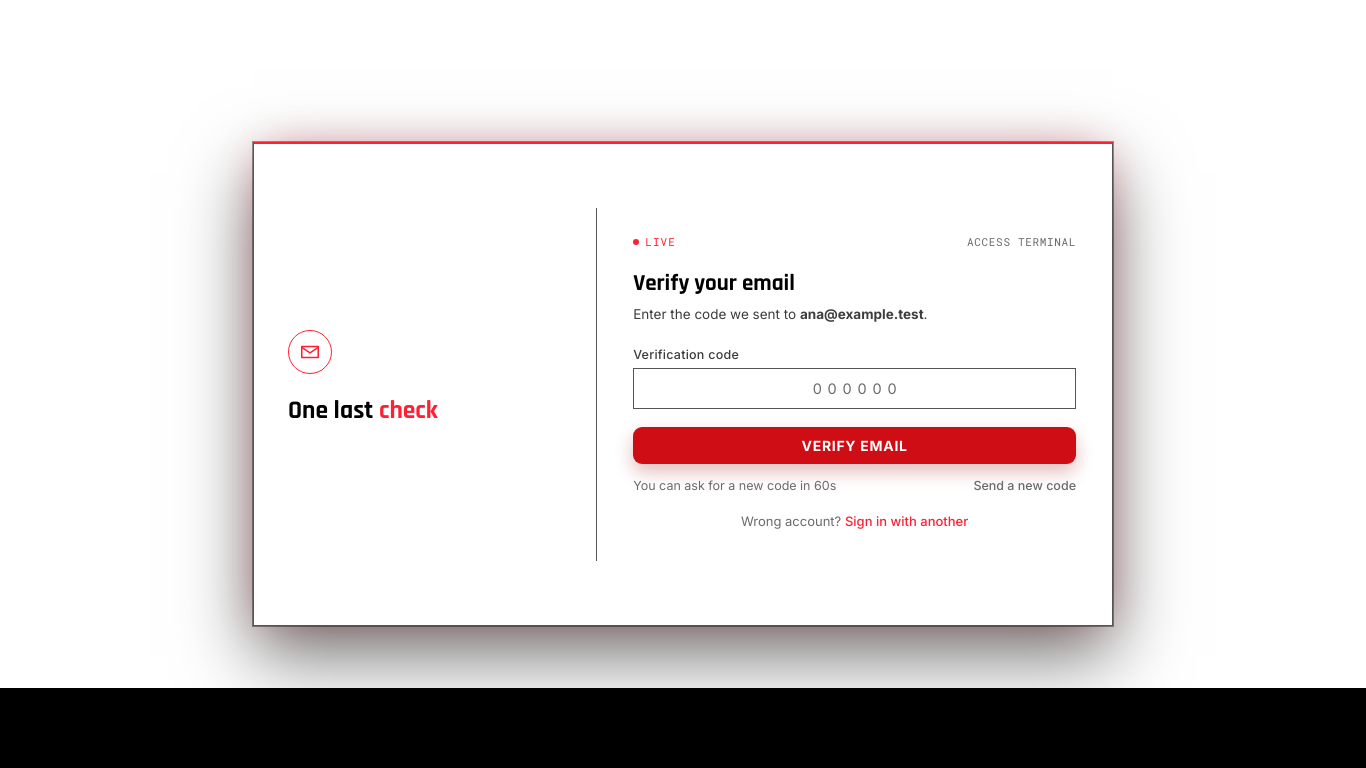
Test: VerifyEmailPage › explains an expired code with the backend's own wording replaced by a clearer one
The image size is (1366, 768).
In the field labelled "Verification code": (855, 388) [633, 368, 1076, 409], type "123456"
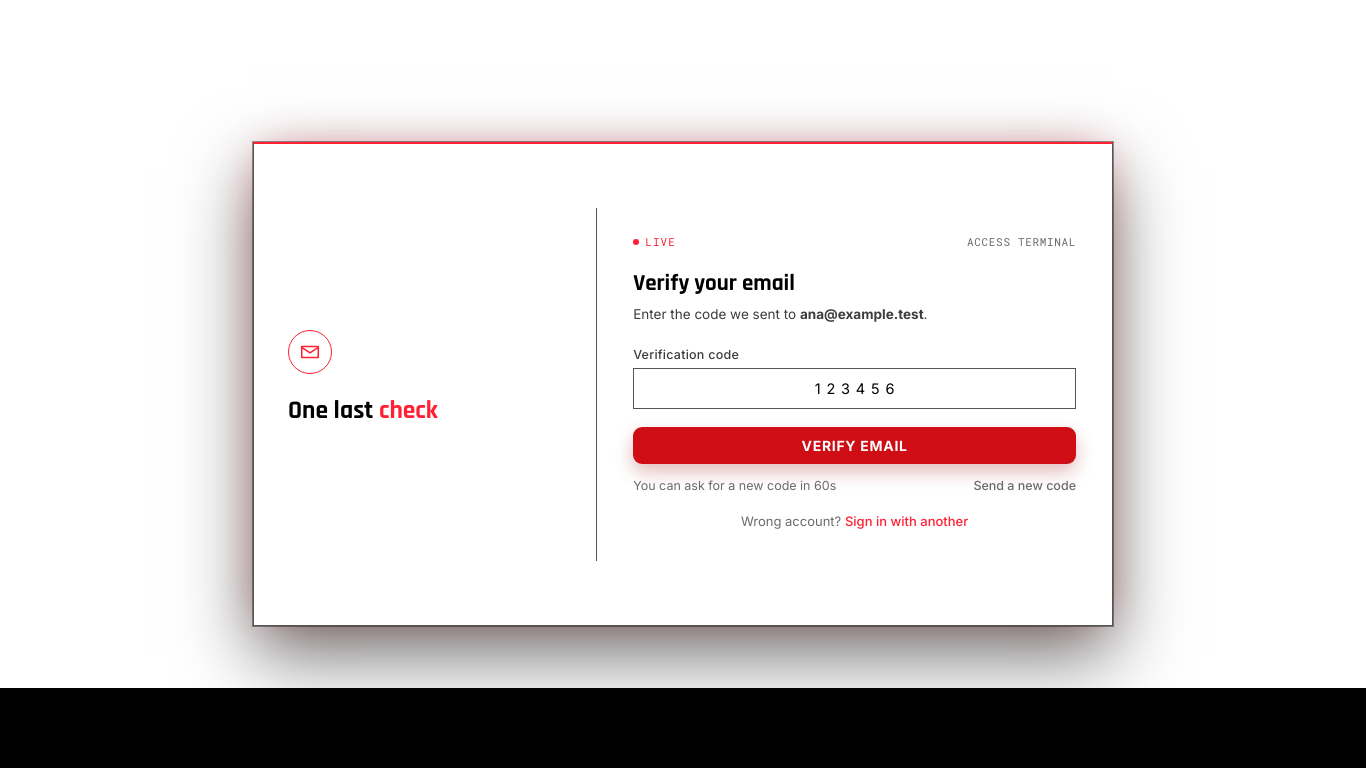
Click the button "Verify email": (855, 445) [633, 427, 1076, 464]
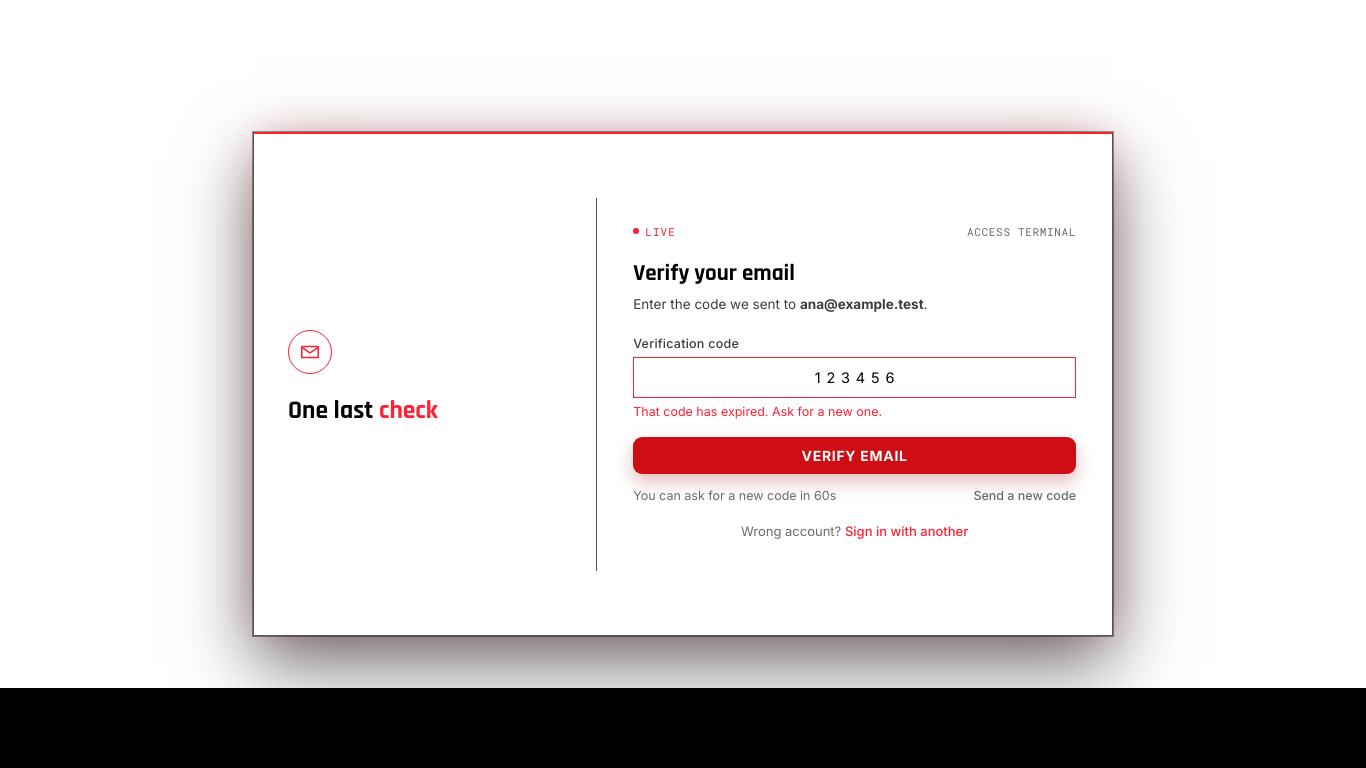
Check: the text "That code has expired. Ask for a new one." is shown, box [633, 404, 882, 419]
